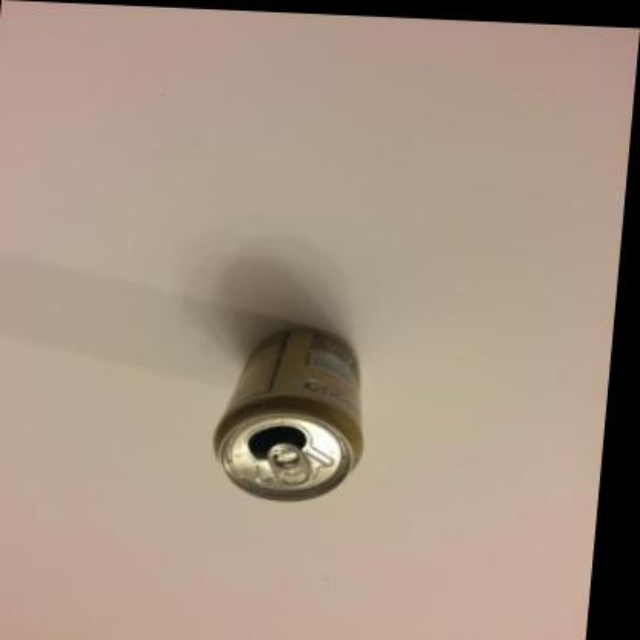trash: (214, 326, 362, 498)
